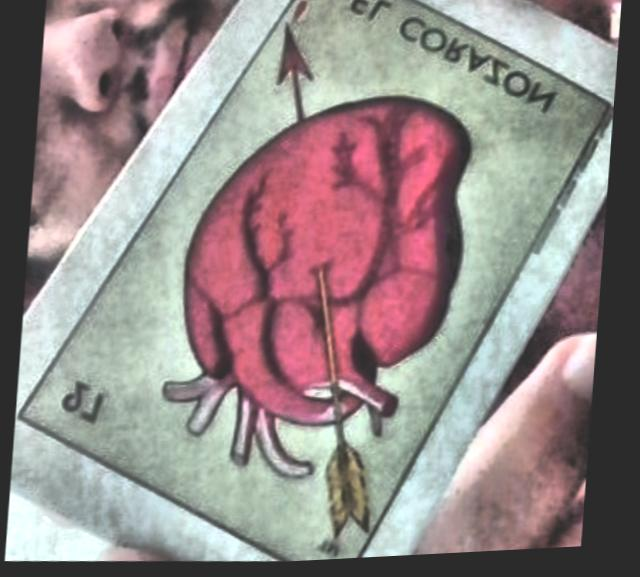El Corazon: (18, 0, 608, 564)
